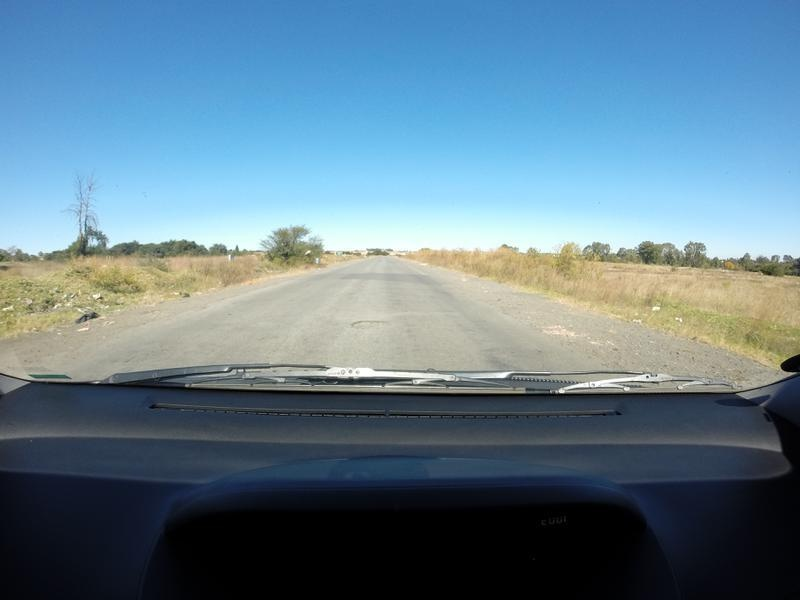pothole: (347, 317, 386, 328)
